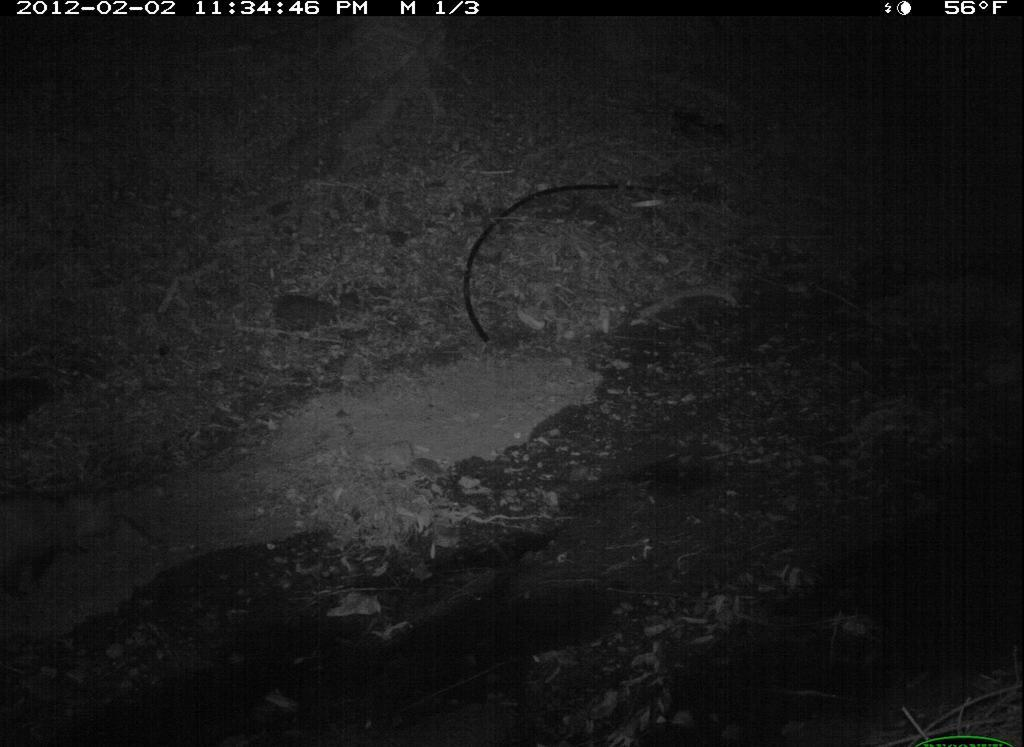opossum: (2, 481, 86, 594)
